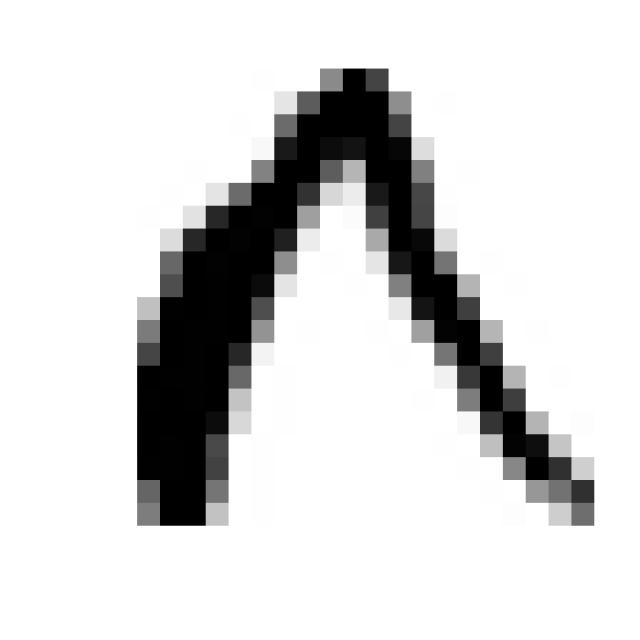8 -eight-: (108, 44, 618, 556)
